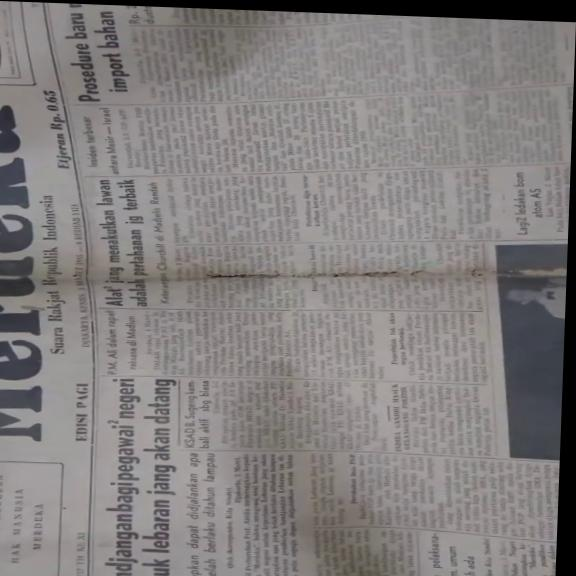Kertas: (0, 8, 565, 576), (85, 409, 550, 576)
